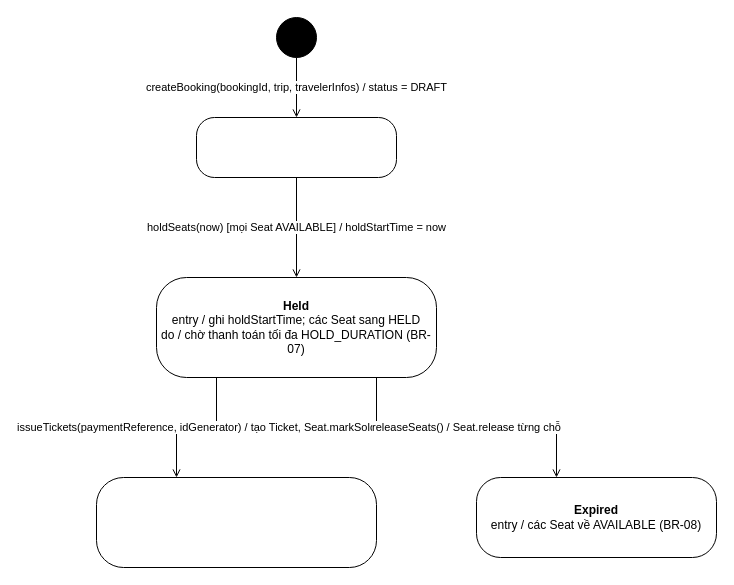
The diagram is 734 pixels wide and 585 high, and some of its shapes have lost their labels. Each missing label, with the centre of its shape:
Draft: [296,147]
Ticketed entry / phát hành vé; các Seat sang SOLD; ghi paymentReference: [236,522]
